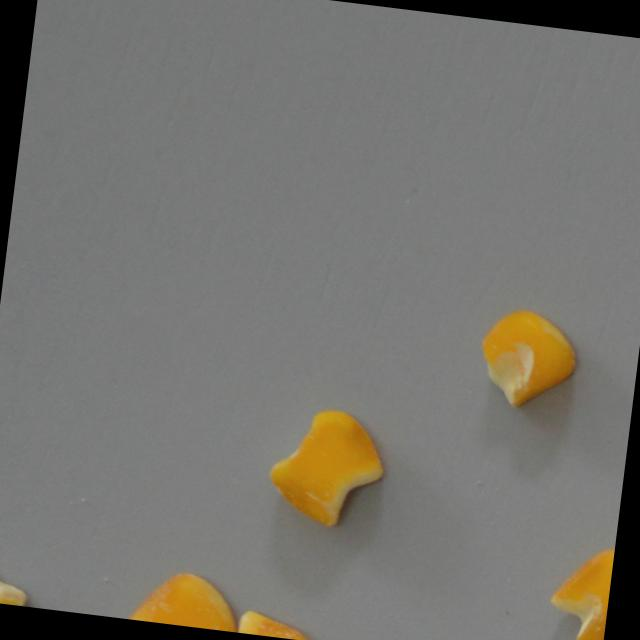dañado: (260, 400, 395, 535), (470, 302, 585, 416), (119, 561, 244, 632), (542, 537, 615, 640), (223, 603, 323, 640), (0, 547, 40, 607)
